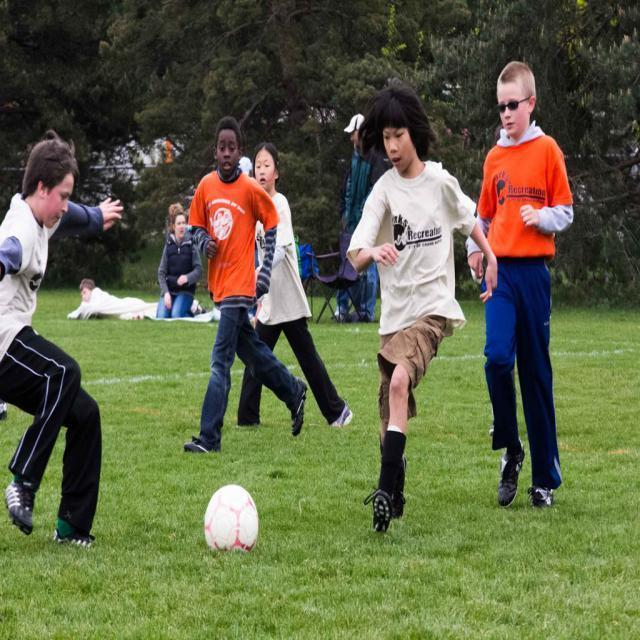Football: (203, 483, 256, 551)
